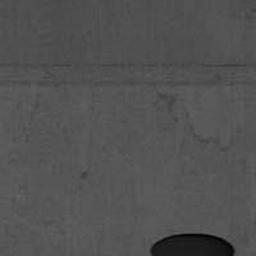Punching: (150, 233, 238, 256)
